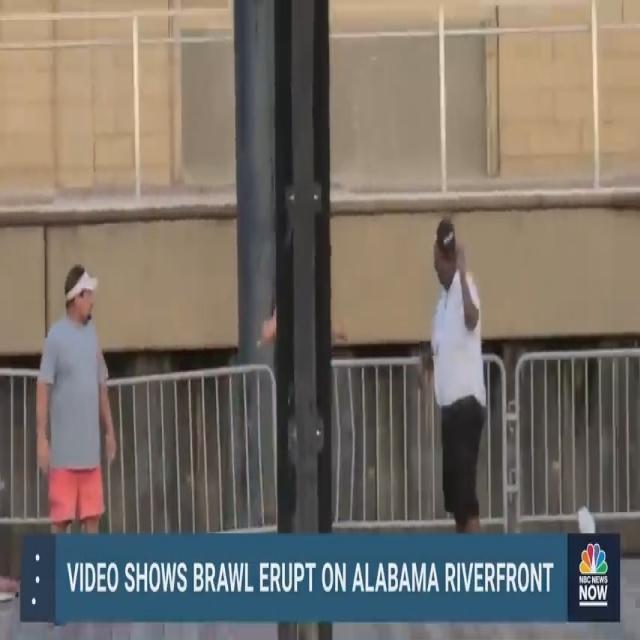non-fight: (399, 210, 510, 530), (24, 252, 130, 539)
